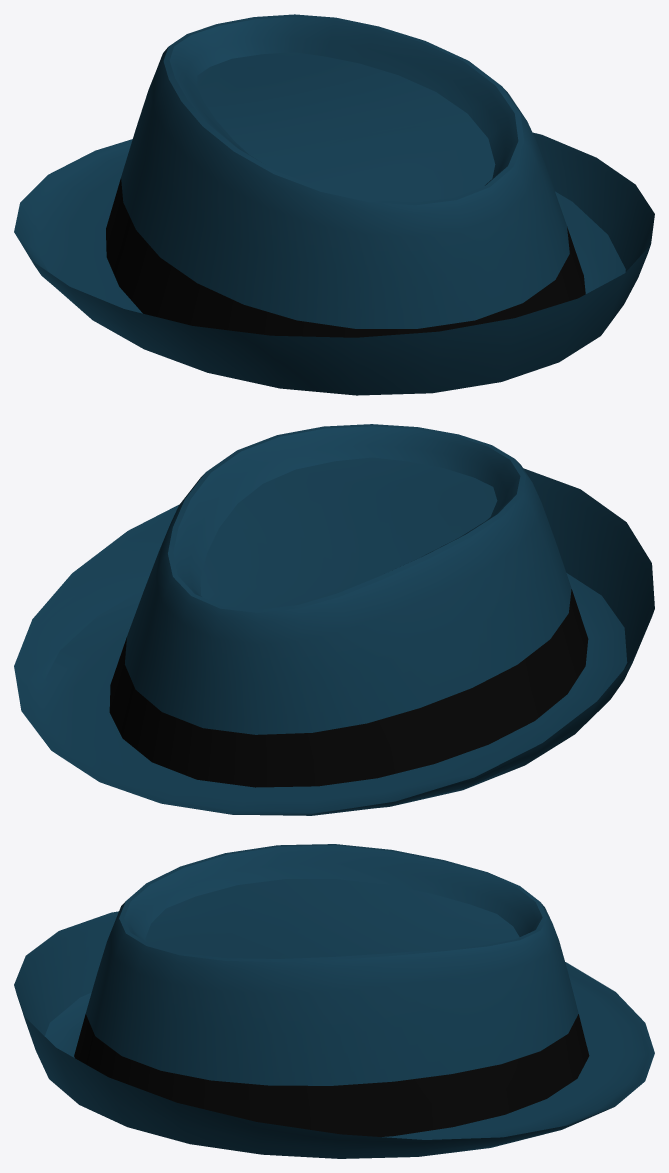
File: low_poly_blue_hat.glb
3 renders of one model, top to bottom at view 1: azimuth 30°, elevation 25°; view 2: azimuth 150°, elevation 25°; view 3: azimuth 270°, elevation 25°, orthographic. The views are drawn at different scales.
Bounding box in the file's own units: 1.7 × 0.5399 × 2.01.
1 material, 1 textured.
